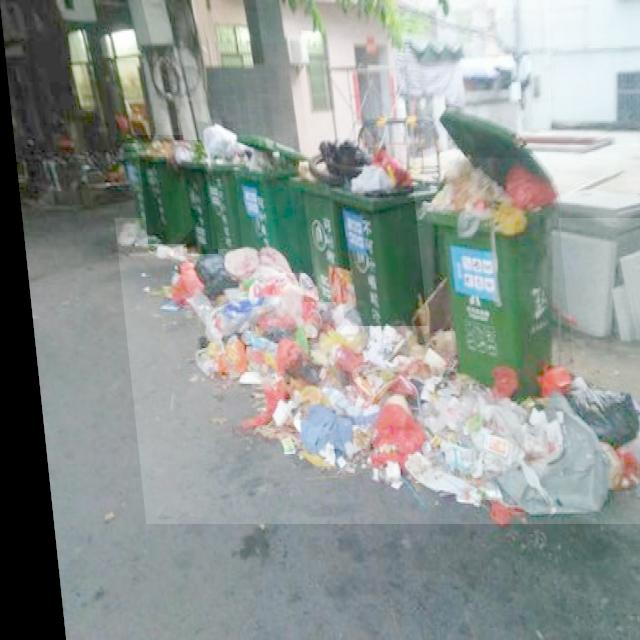garbage: (110, 218, 640, 524)
overflow: (407, 158, 569, 398), (323, 147, 441, 326), (284, 137, 372, 302), (228, 131, 304, 273), (134, 135, 189, 244), (197, 121, 240, 249), (173, 140, 213, 254)
